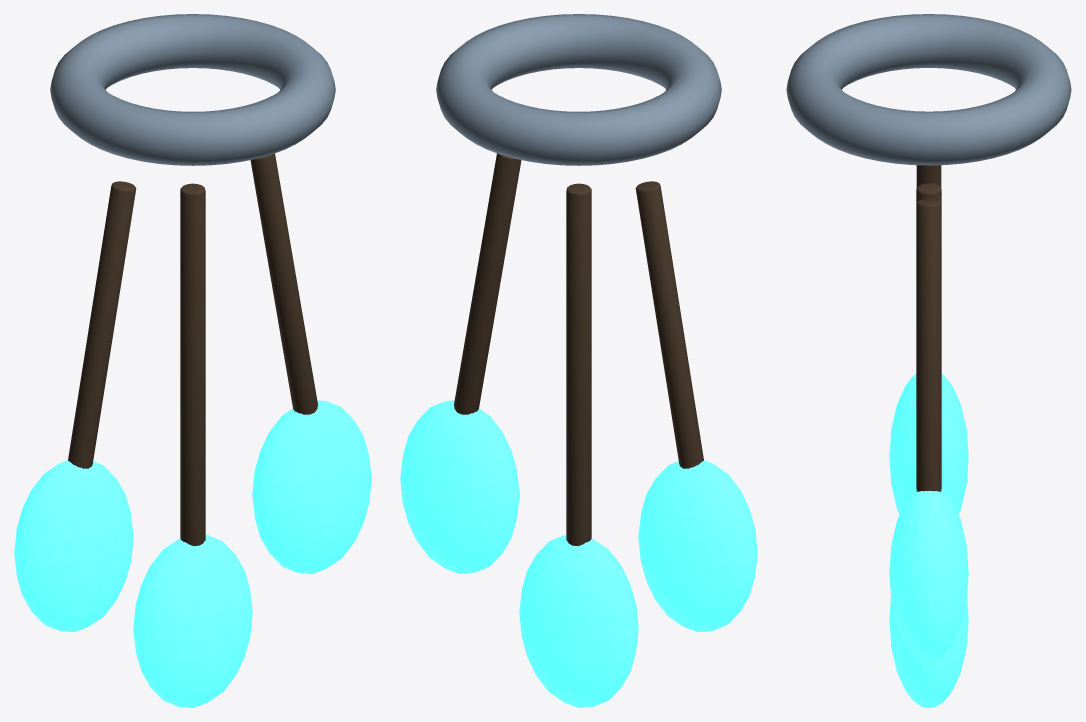
Rendered from earring_v3.glb.
The picture shows the model from 3 angles, left to right: view 1: azimuth 30°, elevation 25°; view 2: azimuth 150°, elevation 25°; view 3: azimuth 270°, elevation 25°; orthographic projection.
Parts seen in each view (by area): view 1: CHANDELIER_TOP_PRIMARY, DROP_GEM_EMISSIVE, DROP_GEM_EMISSIVE.001, DROP_GEM_EMISSIVE.002, DROP_C_SECONDARY, DROP_L_SECONDARY, DROP_R_SECONDARY; view 2: CHANDELIER_TOP_PRIMARY, DROP_GEM_EMISSIVE, DROP_GEM_EMISSIVE.001, DROP_GEM_EMISSIVE.002, DROP_C_SECONDARY, DROP_L_SECONDARY, DROP_R_SECONDARY; view 3: CHANDELIER_TOP_PRIMARY, DROP_GEM_EMISSIVE.002, DROP_R_SECONDARY, DROP_GEM_EMISSIVE, DROP_GEM_EMISSIVE.001, DROP_C_SECONDARY, DROP_L_SECONDARY.
Boxes of the visible parts, left/top/right/bottom form: CHANDELIER_TOP_PRIMARY: left=50, top=14, right=335, bottom=165; DROP_GEM_EMISSIVE: left=14, top=460, right=133, bottom=631; DROP_GEM_EMISSIVE.001: left=133, top=535, right=252, bottom=707; DROP_GEM_EMISSIVE.002: left=252, top=400, right=371, bottom=573; DROP_C_SECONDARY: left=180, top=183, right=205, bottom=546; DROP_L_SECONDARY: left=68, top=181, right=136, bottom=468; DROP_R_SECONDARY: left=250, top=153, right=317, bottom=414; CHANDELIER_TOP_PRIMARY: left=436, top=14, right=721, bottom=165; DROP_GEM_EMISSIVE: left=638, top=460, right=757, bottom=631; DROP_GEM_EMISSIVE.001: left=519, top=535, right=638, bottom=707; DROP_GEM_EMISSIVE.002: left=400, top=400, right=519, bottom=573; DROP_C_SECONDARY: left=566, top=183, right=591, bottom=546; DROP_L_SECONDARY: left=635, top=181, right=703, bottom=468; DROP_R_SECONDARY: left=454, top=153, right=521, bottom=414; CHANDELIER_TOP_PRIMARY: left=786, top=14, right=1071, bottom=165; DROP_GEM_EMISSIVE.002: left=889, top=489, right=968, bottom=661; DROP_R_SECONDARY: left=916, top=199, right=941, bottom=491; DROP_GEM_EMISSIVE: left=889, top=374, right=968, bottom=514; DROP_GEM_EMISSIVE.001: left=889, top=598, right=968, bottom=707; DROP_C_SECONDARY: left=916, top=183, right=941, bottom=488; DROP_L_SECONDARY: left=916, top=165, right=941, bottom=187.
Bounding box in the file's own units: 1.12 × 1.95 × 0.79.
